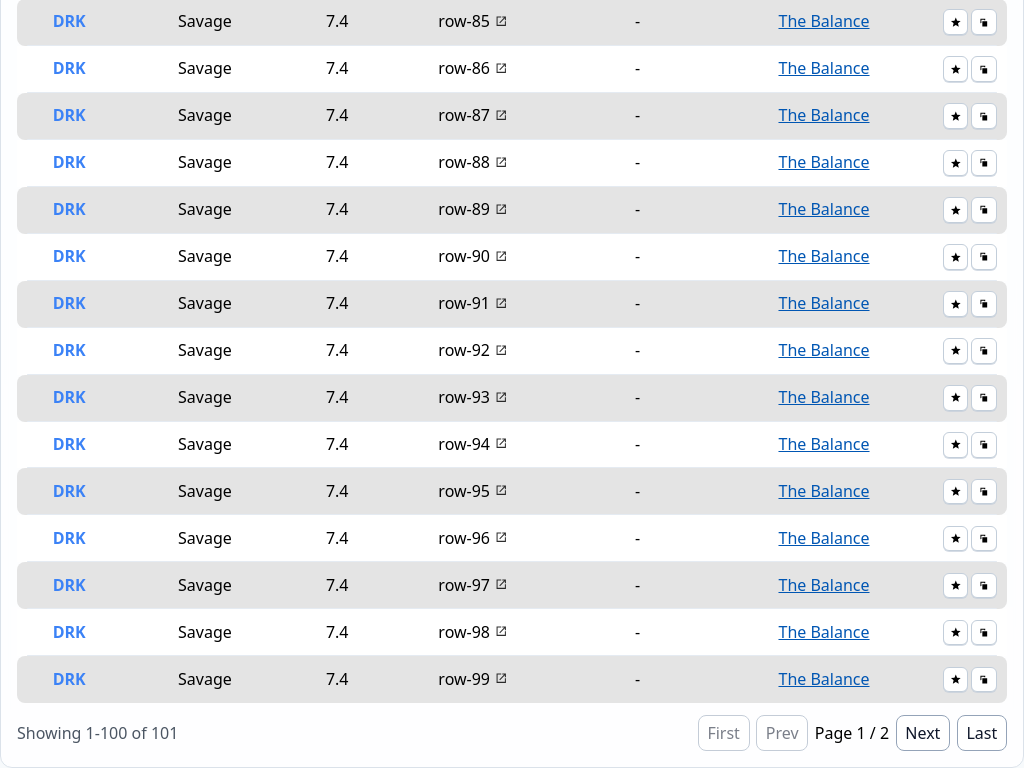
Scenario: BisTable › paginates rows with 100 entries per page
The width and height of the screenshot is (1024, 768).
(page scrolled)
Click the button with aria-label "Next page": [923, 733] box 896,715 -> 950,751
(page scrolled)
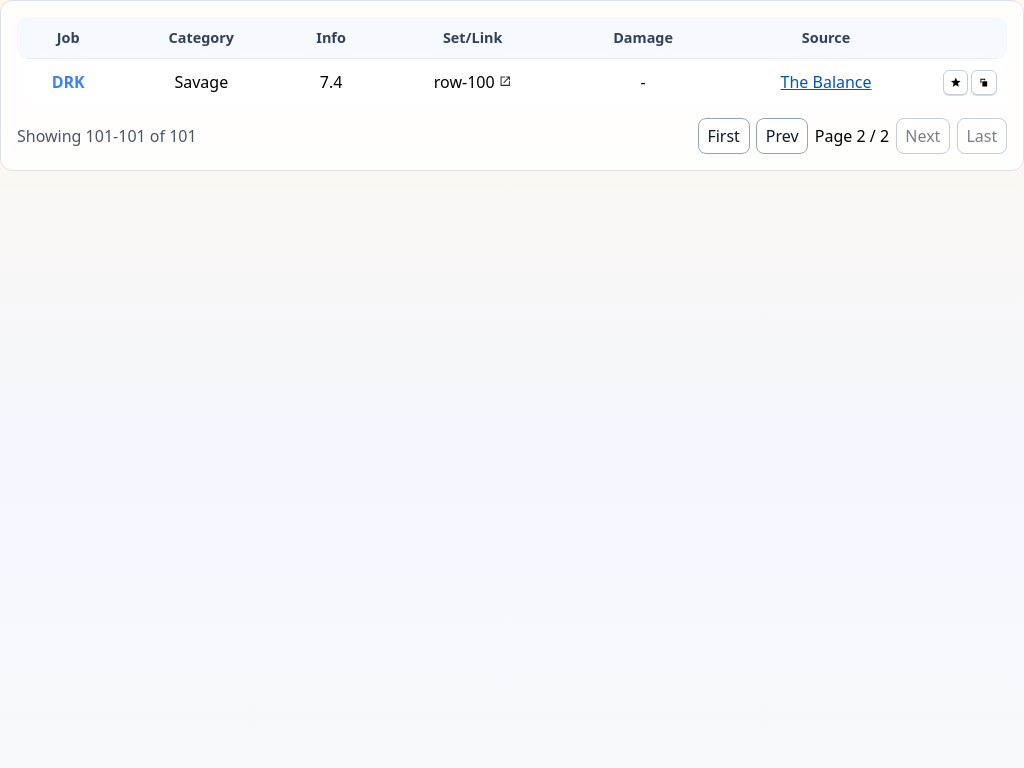
Check: the text "Showing 101-101 of 101" is shown, box 17,124 -> 197,148
